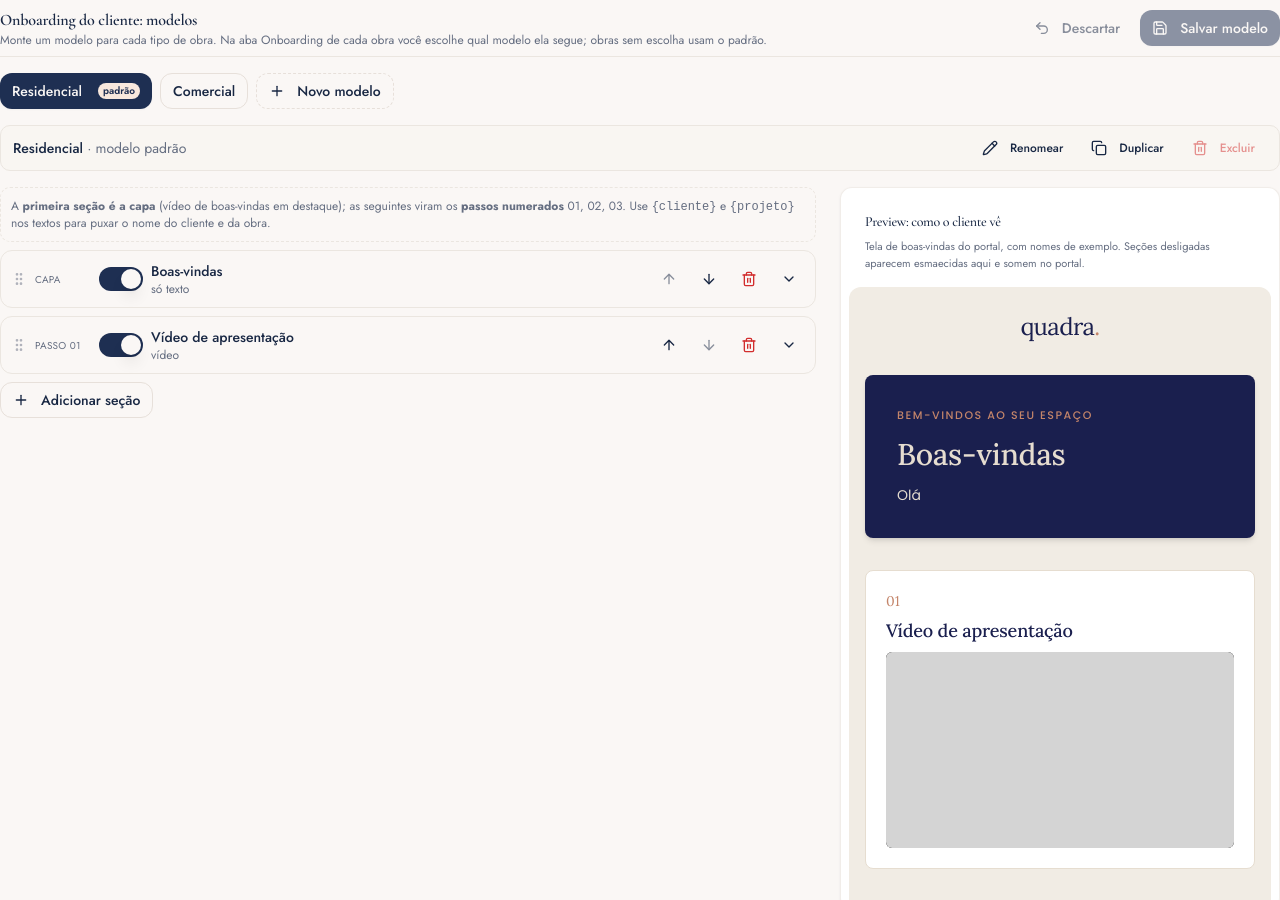
it: Configurações → Onboarding (modelos) › 'Duplicar' cria copiando as seções do modelo aberto
Later steps or results of the test are not shown.
Click the button "Duplicar" at point(1128, 148), box [1079,134,1176,162]
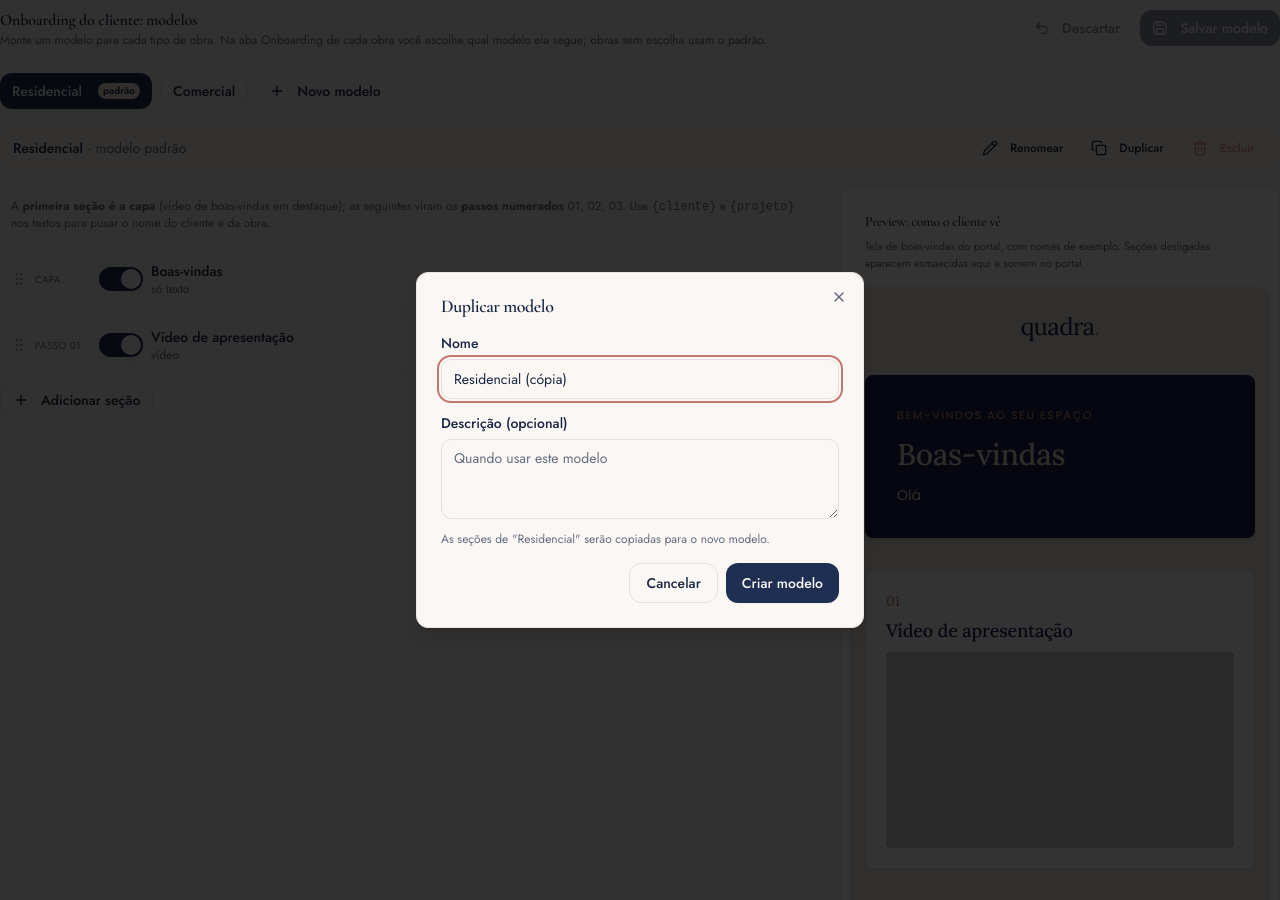
expect the field labelled "Nome" holds "Residencial (cópia)": met, box [441,359,839,399]
